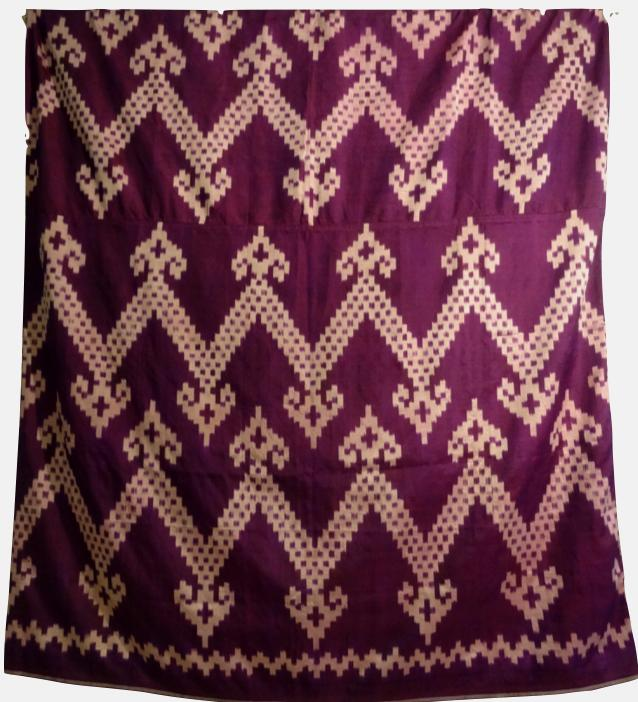malong: (25, 6, 638, 702)
